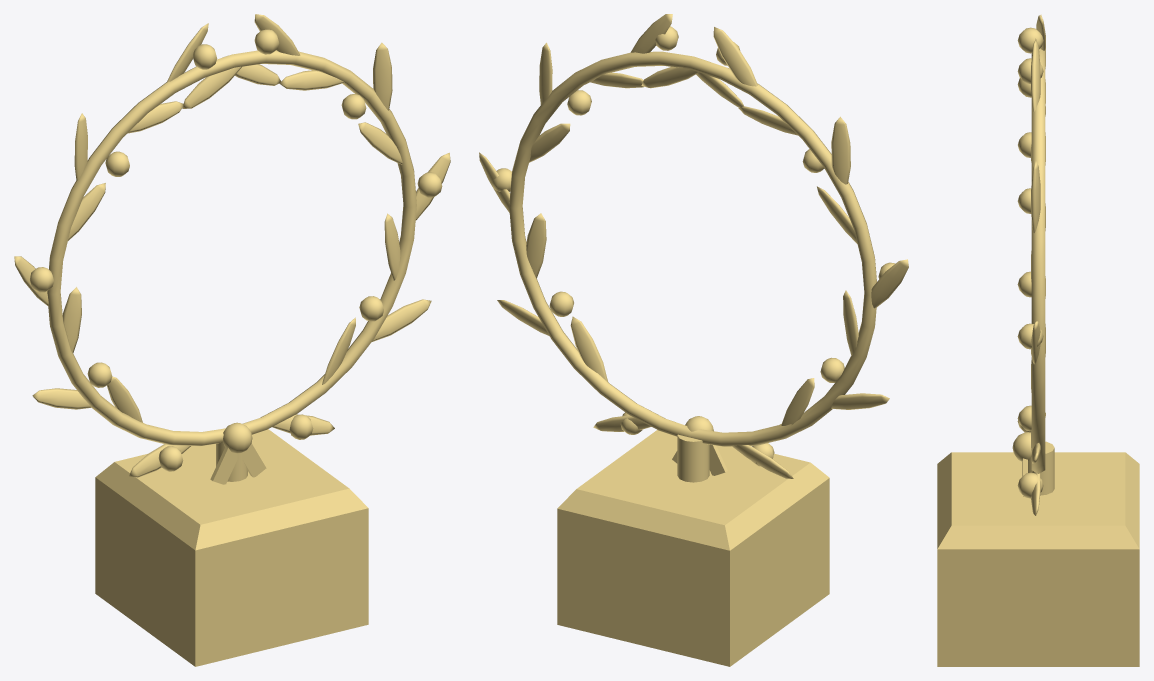
File: olive.glb
3 views of the same model, side by side, from view 1: azimuth 30°, elevation 25°; view 2: azimuth 150°, elevation 25°; view 3: azimuth 270°, elevation 25° (orthographic).
Parts seen in each view (by area): view 1: olive; view 2: olive; view 3: olive.
Boxes of the visible parts, x1,y1,x2,y2 form: olive: [14, 14, 450, 666]; olive: [479, 14, 908, 666]; olive: [937, 14, 1139, 666].
Bounding box in the file's own units: 0.7774 × 1.01 × 0.3112.
